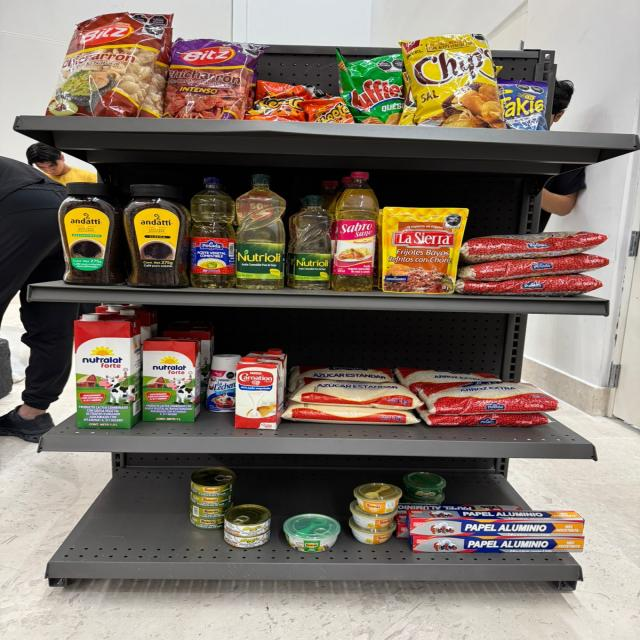ACEITE NUTRIOLI 400 ML: (285, 195, 334, 290)
ACEITE VEGETAL LA POSADA 800 ML: (189, 177, 235, 288)
ATUN DOLORES EN ACEITE 130GRS: (191, 467, 235, 497), (189, 490, 234, 508), (189, 502, 234, 518), (190, 513, 224, 530)
Aceite Comestible Nutrioli 850ml: (234, 174, 287, 290)
Aceite Sabrosano 850ml: (331, 171, 379, 292), (327, 177, 353, 216), (320, 181, 338, 210)
Arroz La Posada 900 gr: (409, 381, 563, 416), (416, 404, 555, 426), (395, 367, 503, 387)
Atun Mazatun Agua Sin Soya 130grs: (224, 504, 271, 537), (224, 529, 270, 549)
Azucar Estandar La Posada 1 kg: (288, 379, 425, 410), (282, 399, 420, 425), (288, 366, 395, 391)
CAFE SOLUBLE ANDATTI DESCAFEINADO 275G: (57, 181, 127, 286)
CARNATION Leche Evaporada 720g: (235, 358, 284, 429), (243, 349, 286, 408)
CHEETOS TORCIDITOS 240GR: (299, 96, 355, 123)
Cafe Soluble Andatti 275g: (122, 183, 190, 289)
Cheetos grandes: (245, 80, 332, 122)
Chicharron de Cerdo Natural Bitz 120 gr: (45, 11, 174, 119), (138, 28, 172, 118)
DOLORES ENSALADA CON VERDURAS MAXI CUP CAN 240gr: (283, 514, 340, 552)
Dolores SURFY Cup Can Elotitos 24135 gr: (354, 483, 402, 514), (350, 500, 397, 529), (349, 516, 396, 545)
Ensalada Atun Mazatun CupCan: (403, 472, 446, 498), (402, 490, 445, 505)
Frijol La Sierra Chorizo 430 bolsa: (382, 207, 470, 294)
Frijol Pinto La Posada 900gr: (458, 231, 610, 266), (456, 254, 614, 282), (453, 273, 608, 297)
La Lechera Sirve Facil 335gr Bote: (205, 354, 239, 412)
PLC NUTRALAT FORTE 1 LT: (142, 337, 202, 422), (164, 327, 214, 403)
PLC NUTRALAT FORTE 1.5 LT: (74, 314, 142, 428), (125, 311, 157, 378), (84, 309, 141, 329), (95, 304, 155, 312), (101, 306, 122, 314)
Papas Chips Barcel 170 gr bolsa con sal: (397, 34, 512, 129), (398, 72, 415, 126)
Papel aluminio festivo rollo 76 m X 30 cm pz: (406, 509, 585, 536), (407, 534, 585, 552), (397, 503, 523, 523), (397, 523, 409, 538)
RUFFLES QUESO 185GR: (336, 47, 407, 126)
Takis Blue 75g: (497, 79, 549, 131)
chicharrones de cerdo intenso: (163, 37, 271, 119), (245, 64, 258, 113)
